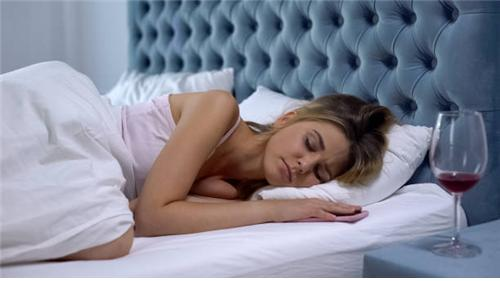alcohol: (431, 109, 488, 260)
